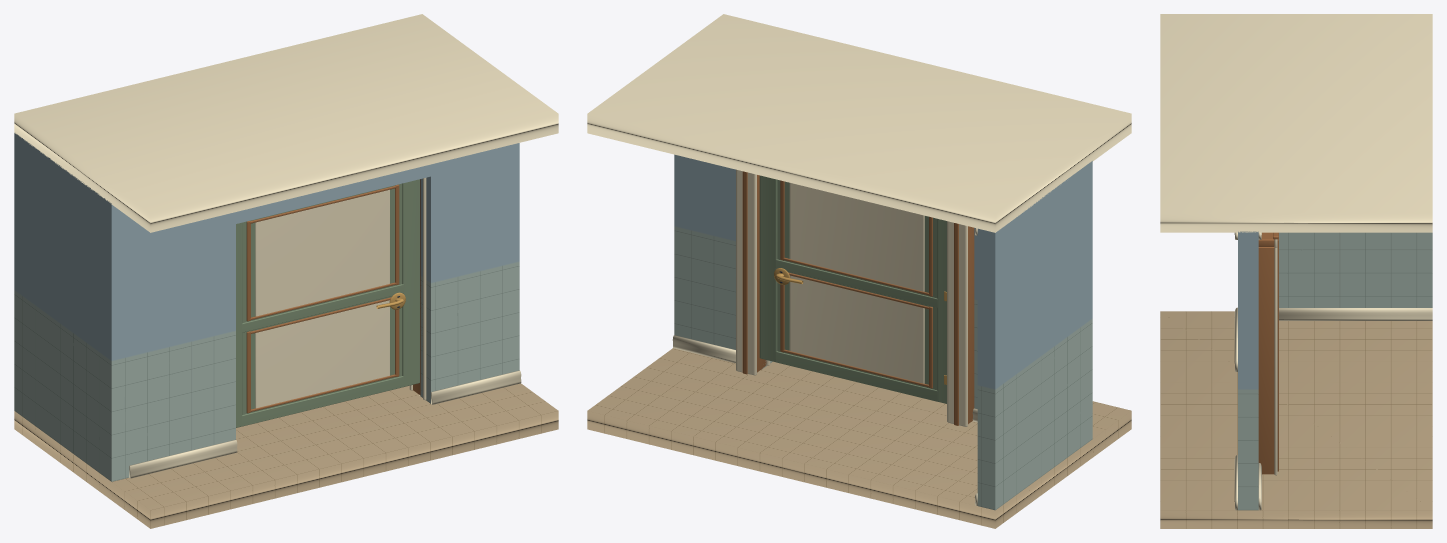
File: portal_liso.glb
3 renders of one model, left to right at view 1: azimuth 30°, elevation 25°; view 2: azimuth 150°, elevation 25°; view 3: azimuth 270°, elevation 25°, orthographic.
Visible parts, largest first — view 1: Walls, Ceiling, Leaf, Floor, Trim, Frame; view 2: Ceiling, Walls, Floor, Leaf, Frame, Trim; view 3: Ceiling, Floor, Walls, Frame, Trim.
Part boxes in pixels (box(x1,y1,x2,y2)): Walls: box(14, 133, 519, 481); Ceiling: box(14, 14, 558, 232); Leaf: box(236, 179, 419, 427); Floor: box(14, 383, 558, 528); Trim: box(129, 370, 521, 478); Frame: box(409, 178, 426, 400); Ceiling: box(587, 14, 1131, 232); Walls: box(674, 154, 1092, 510); Floor: box(587, 348, 1131, 528); Leaf: box(759, 175, 946, 403); Frame: box(736, 169, 974, 426); Trim: box(672, 228, 977, 505); Ceiling: box(1160, 14, 1432, 232); Floor: box(1160, 311, 1432, 528); Walls: box(1238, 231, 1432, 510); Frame: box(1258, 232, 1278, 475); Trim: box(1234, 232, 1432, 510).
Size of the model in its own units: 4.6 by 3.4 by 2.66.
Materials: 7 (2 with a texture image).
